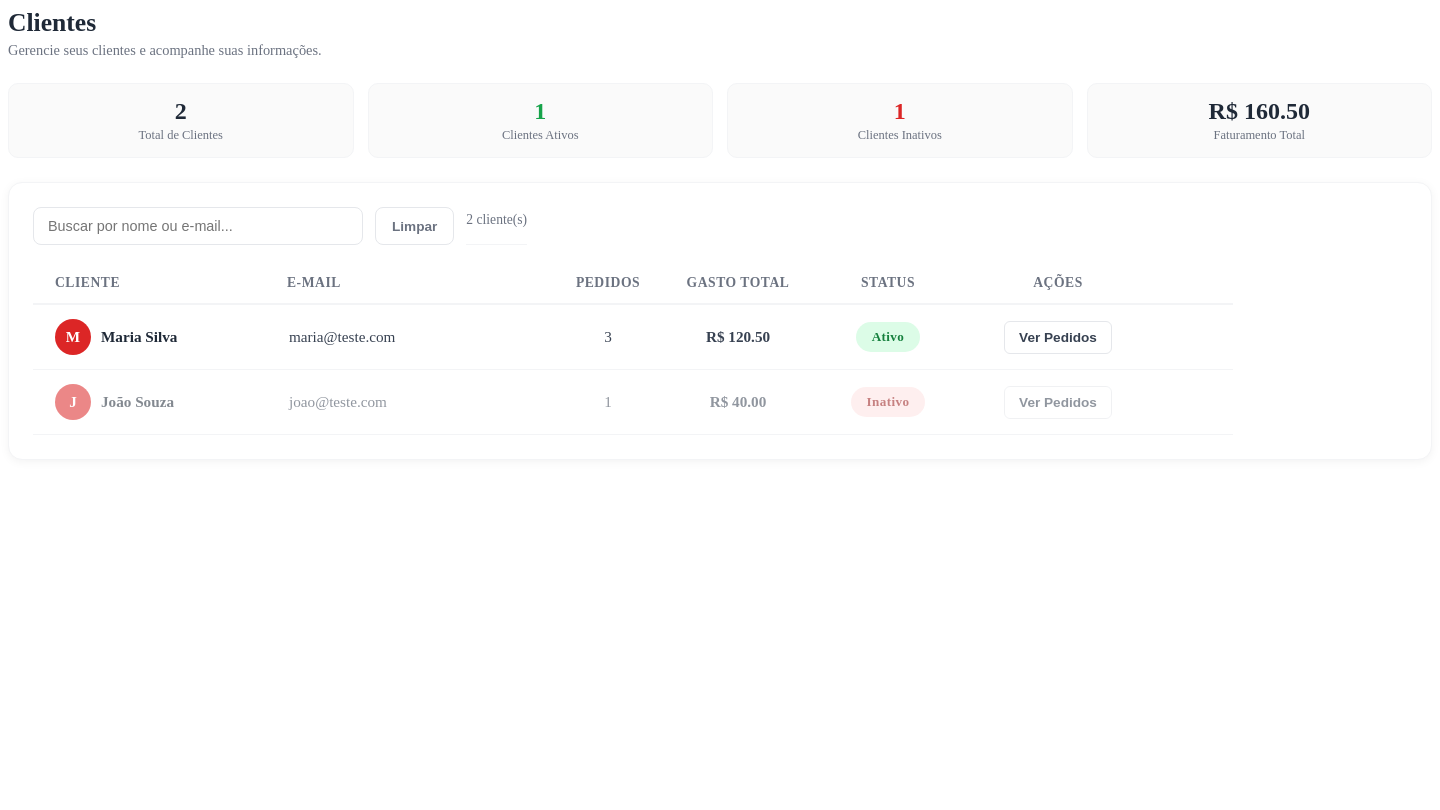
it: AdminClientes › clicar de novo em Fechar recolhe os pedidos
The width and height of the screenshot is (1440, 810).
Expected: the text "Maria Silva" is shown, x1=101 y1=328 x2=177 y2=346
Click the button "Ver Pedidos" in the row of "Maria Silva": (1058,337) x1=1004 y1=320 x2=1112 y2=354
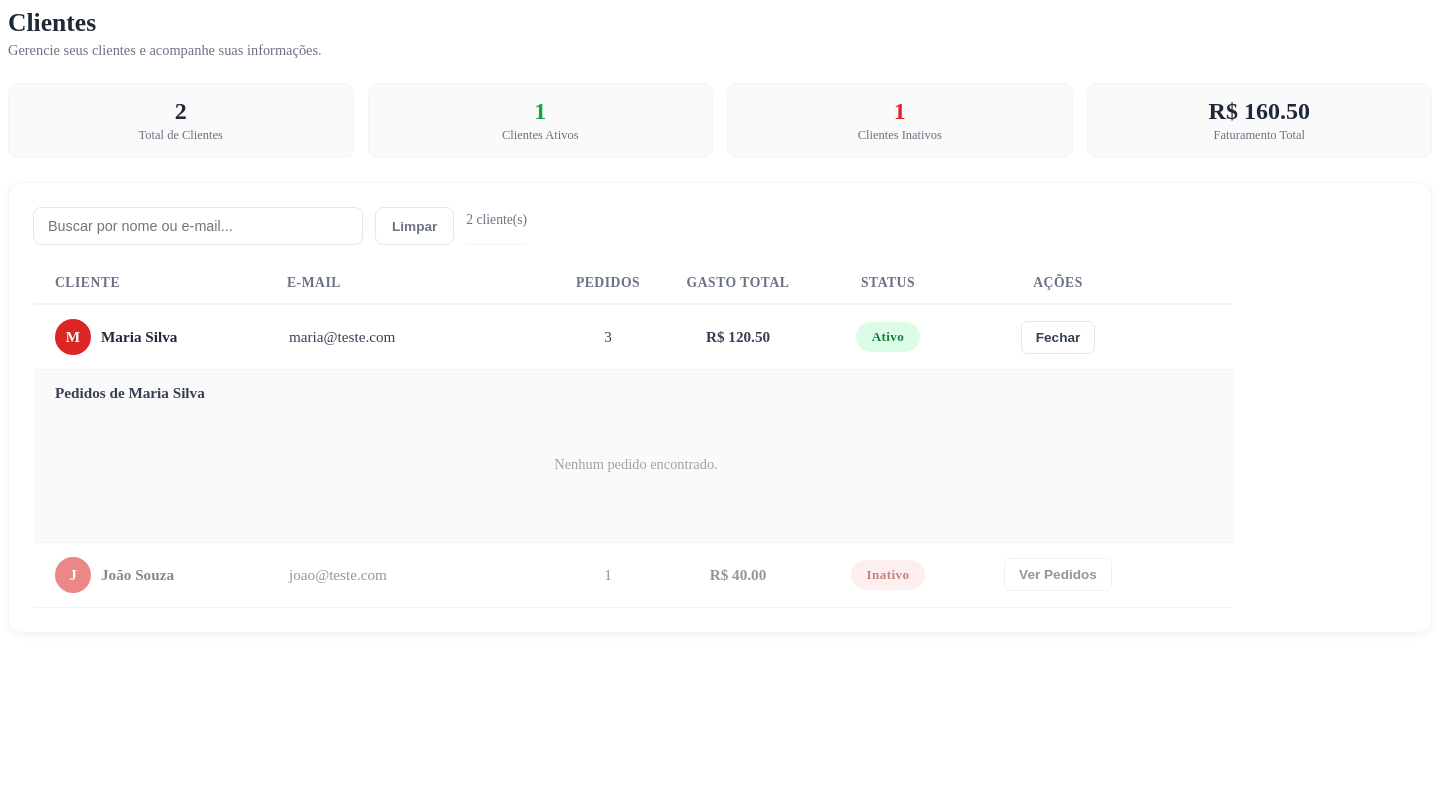
Expected: the button "Fechar" is shown
Click the button "Fechar": (1058,337) x1=1021 y1=320 x2=1095 y2=354
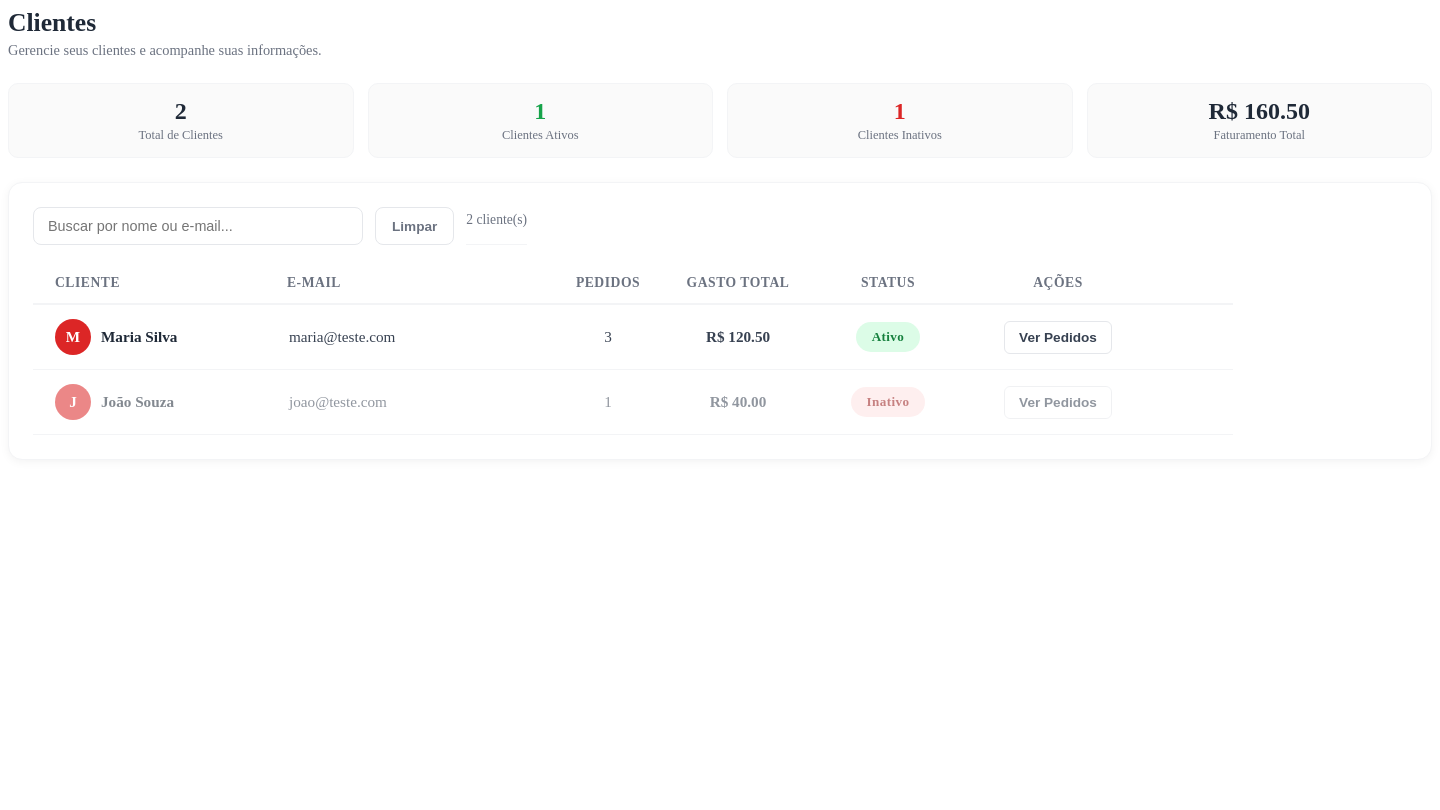
Expected: the text "Pedidos de Maria Silva" is gone
